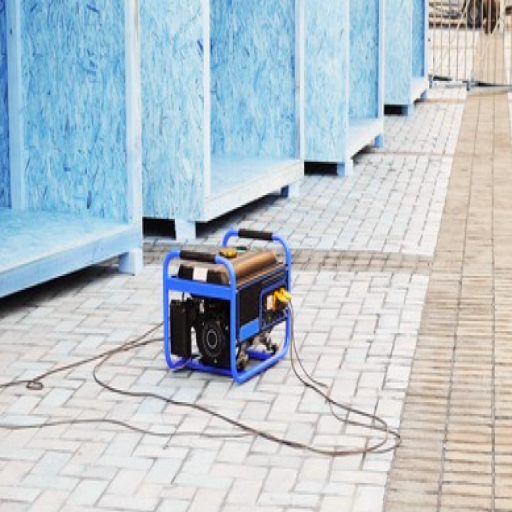portable_generator: (162, 231, 293, 384)
